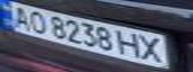2: (63, 17, 81, 45)
3: (78, 20, 100, 48)
8: (93, 25, 115, 53), (45, 14, 69, 39)
A: (3, 3, 36, 29)
H: (115, 29, 145, 58)
O: (24, 8, 51, 34)
X: (136, 34, 169, 64)
